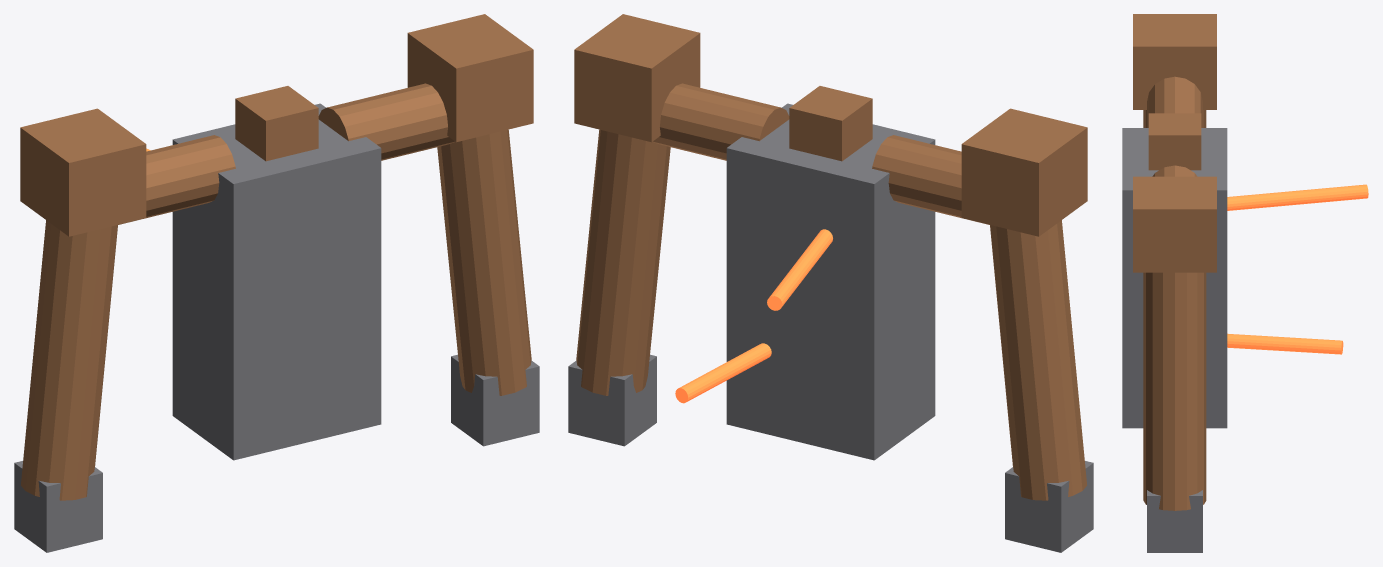
Rendered from bridge-colossus.glb.
3 renders of one model, left to right at view 1: azimuth 30°, elevation 25°; view 2: azimuth 150°, elevation 25°; view 3: azimuth 270°, elevation 25°, orthographic. The views are drawn at different scales.
Visible parts, largest first — view 1: colossus-torso, colossus-arm-0, colossus-arm-1, colossus-shoulder-0, colossus-shoulder-1, colossus-clavicle-1, colossus-clavicle-0, colossus-fist-1, colossus-fist-0, colossus-head; view 2: colossus-torso, colossus-arm-0, colossus-arm-1, colossus-shoulder-0, colossus-shoulder-1, colossus-clavicle-1, colossus-clavicle-0, colossus-fist-1, colossus-fist-0, colossus-head, colossus-crack-vein-1, colossus-crack-vein-0; view 3: colossus-arm-1, colossus-torso, colossus-shoulder-1, colossus-shoulder-0, colossus-head, colossus-fist-1, colossus-crack-vein-0, colossus-clavicle-0, colossus-crack-vein-1, colossus-clavicle-1.
Part boxes in pixels (left/top/right/bottom): colossus-torso: left=172, top=103, right=381, bottom=460; colossus-arm-0: left=21, top=220, right=117, bottom=500; colossus-arm-1: left=437, top=129, right=531, bottom=395; colossus-shoulder-0: left=20, top=108, right=146, bottom=236; colossus-shoulder-1: left=407, top=14, right=533, bottom=142; colossus-clavicle-1: left=318, top=83, right=455, bottom=160; colossus-clavicle-0: left=118, top=135, right=235, bottom=224; colossus-fist-1: left=451, top=354, right=539, bottom=446; colossus-fist-0: left=14, top=461, right=102, bottom=552; colossus-head: left=235, top=86, right=318, bottom=161; colossus-torso: left=726, top=103, right=935, bottom=460; colossus-arm-0: left=990, top=220, right=1086, bottom=500; colossus-arm-1: left=576, top=129, right=670, bottom=395; colossus-shoulder-0: left=961, top=108, right=1087, bottom=236; colossus-shoulder-1: left=574, top=14, right=700, bottom=142; colossus-clavicle-1: left=652, top=83, right=789, bottom=160; colossus-clavicle-0: left=872, top=135, right=989, bottom=224; colossus-fist-1: left=568, top=354, right=656, bottom=446; colossus-fist-0: left=1005, top=461, right=1093, bottom=552; colossus-head: left=789, top=86, right=872, bottom=161; colossus-crack-vein-1: left=675, top=343, right=771, bottom=403; colossus-crack-vein-0: left=767, top=229, right=832, bottom=310; colossus-arm-1: left=1143, top=272, right=1206, bottom=510; colossus-torso: left=1122, top=128, right=1227, bottom=428; colossus-shoulder-1: left=1133, top=176, right=1216, bottom=272; colossus-shoulder-0: left=1133, top=14, right=1216, bottom=109; colossus-head: left=1148, top=113, right=1201, bottom=170; colossus-fist-1: left=1147, top=490, right=1202, bottom=552; colossus-crack-vein-0: left=1227, top=184, right=1368, bottom=210; colossus-clavicle-0: left=1147, top=76, right=1202, bottom=127; colossus-crack-vein-1: left=1227, top=333, right=1343, bottom=354; colossus-clavicle-1: left=1152, top=165, right=1197, bottom=176.
Bounding box in the file's own units: 1.43 × 1.07 × 0.7031.
